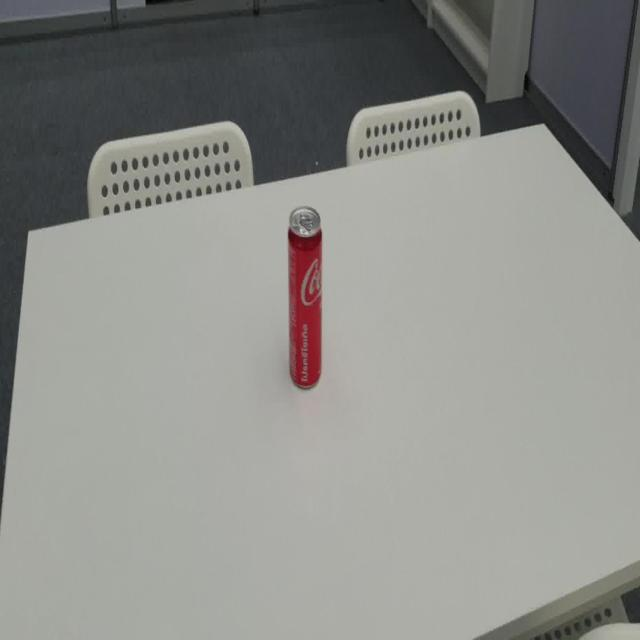coca-cola: (287, 204, 323, 395)
